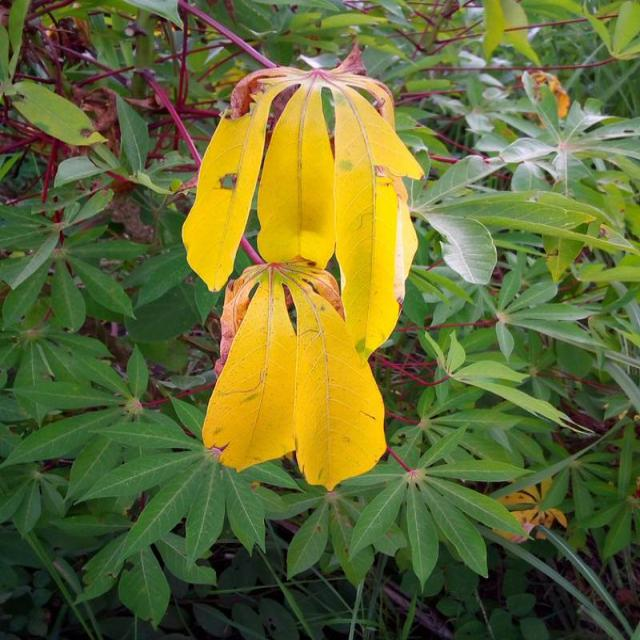cassava leaf: (181, 58, 424, 490)
